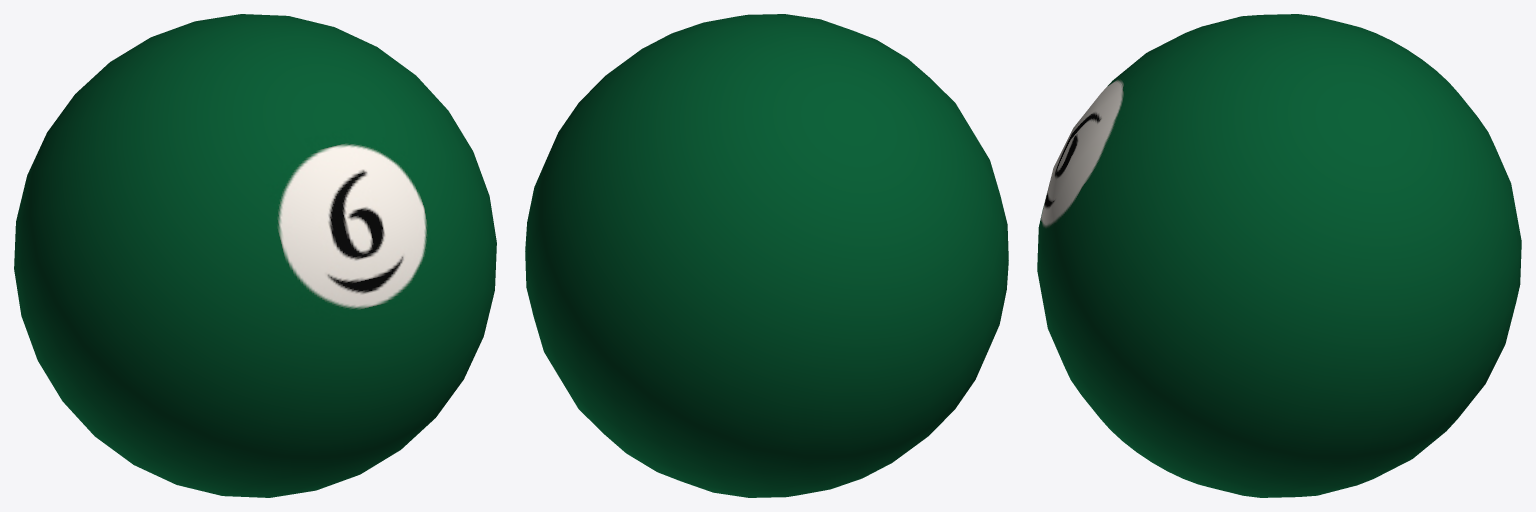
Rendered from ball6.obj.
3 renders of one model, left to right at view 1: azimuth 30°, elevation 25°; view 2: azimuth 150°, elevation 25°; view 3: azimuth 270°, elevation 25°, orthographic.
Parts seen in each view (by area): view 1: Ball6_Mesh.005; view 2: Ball6_Mesh.005; view 3: Ball6_Mesh.005.
Boxes of the visible parts, x1,y1,x2,y2 form: Ball6_Mesh.005: [14, 14, 496, 497]; Ball6_Mesh.005: [525, 14, 1008, 497]; Ball6_Mesh.005: [1037, 14, 1521, 497].
Size of the model in its own units: 0.9617 by 0.9597 by 0.9597.
Materials: 1 (1 with a texture image).
